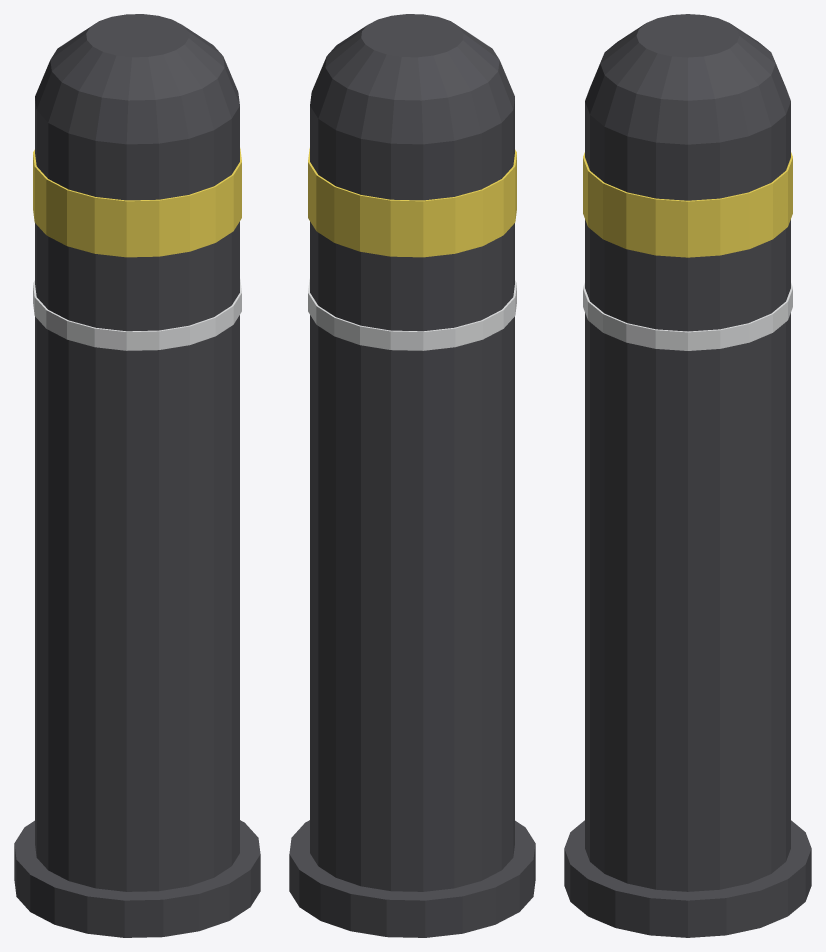
Rendered from SM_Prop_Bollard.fbx.
The picture shows the model from 3 angles, left to right: view 1: azimuth 30°, elevation 25°; view 2: azimuth 150°, elevation 25°; view 3: azimuth 270°, elevation 25°; orthographic projection.
Parts seen in each view (by area): view 1: SM_Prop_Bollard; view 2: SM_Prop_Bollard; view 3: SM_Prop_Bollard.
Part boxes in pixels (<box>): SM_Prop_Bollard: <box>14,14,260,937</box>; SM_Prop_Bollard: <box>289,14,535,937</box>; SM_Prop_Bollard: <box>564,14,811,937</box>.
Size of the model in its own units: 0.24 by 0.24 by 0.91.
